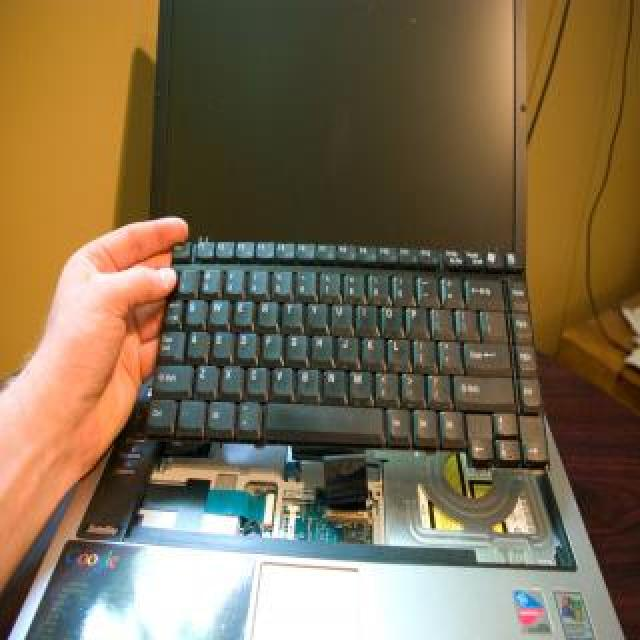laptop_computer: (130, 0, 590, 470)
